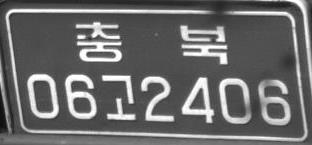0: (26, 72, 60, 118), (218, 77, 252, 123)
2: (141, 76, 173, 122)
4: (181, 77, 215, 124)
6: (257, 77, 291, 125), (64, 73, 97, 119)
고: (100, 74, 136, 120)
충북_D: (75, 20, 228, 65)
